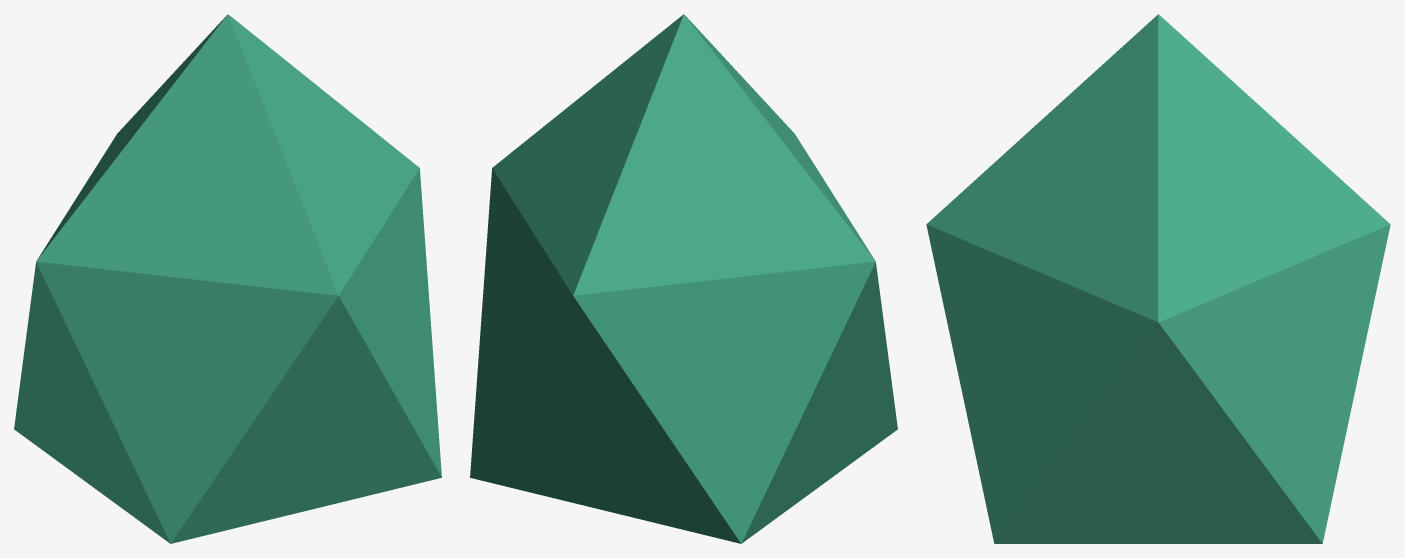
The model's file is J10.PiramideCuadradaGiroelongada.gltf.
3 views of the same model, side by side, from view 1: azimuth 30°, elevation 25°; view 2: azimuth 150°, elevation 25°; view 3: azimuth 270°, elevation 25° (orthographic). The views are drawn at different scales.
Parts seen in each view (by area): view 1: J10.PiramideCuadradaGiroelongada; view 2: J10.PiramideCuadradaGiroelongada; view 3: J10.PiramideCuadradaGiroelongada.
Part boxes in pixels (box(x1,y1,x2,y2)): J10.PiramideCuadradaGiroelongada: box(14, 14, 441, 543); J10.PiramideCuadradaGiroelongada: box(470, 14, 897, 543); J10.PiramideCuadradaGiroelongada: box(926, 14, 1390, 543).
Bounding box in the file's own units: 12.54 × 13.73 × 12.54.
